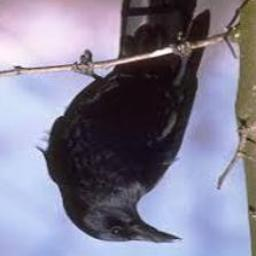Crow: (37, 0, 210, 244)
